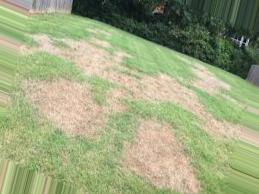patch: (34, 84, 94, 126), (138, 123, 182, 179), (78, 40, 113, 77), (150, 76, 186, 103), (196, 70, 216, 92)
